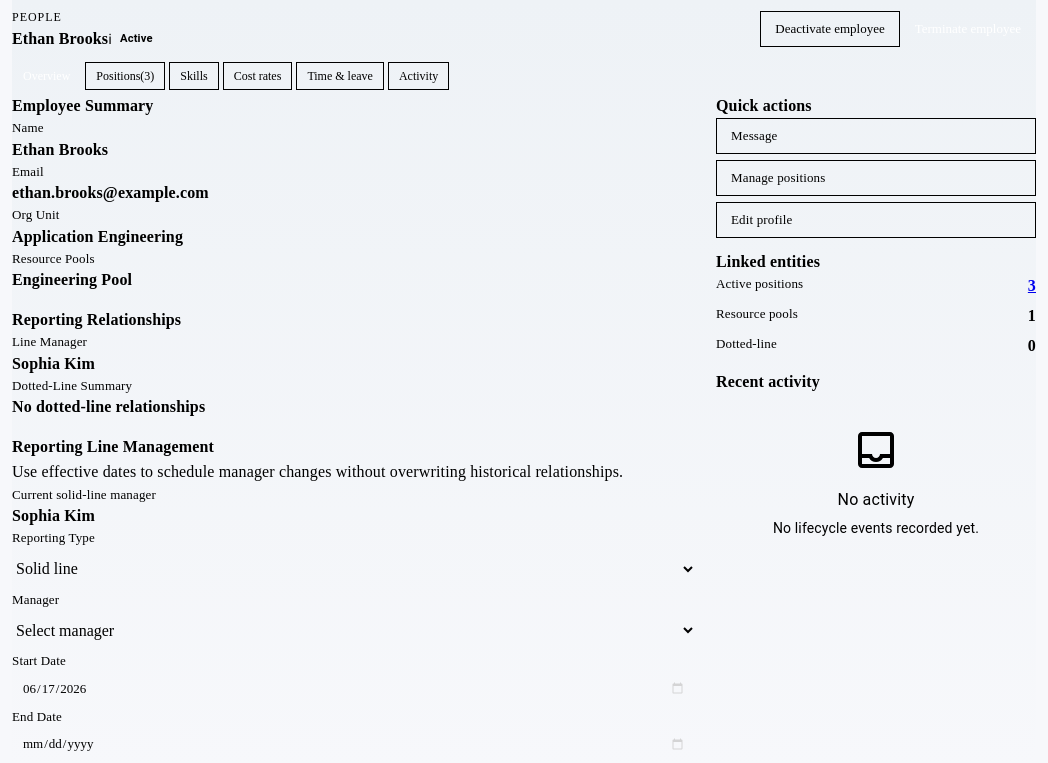
Test: EmployeeDetailsPage — DS canvas 6-tab grammar › switches tabs to swap body content
The width and height of the screenshot is (1048, 763).
Expected: the heading "Employee Summary" is shown, [12,94,154,118]
Positions tab shows the staffing-desk EmptyState forward action.
Click the tab with test id "tab-positions": [125, 76] box [85,62,165,90]
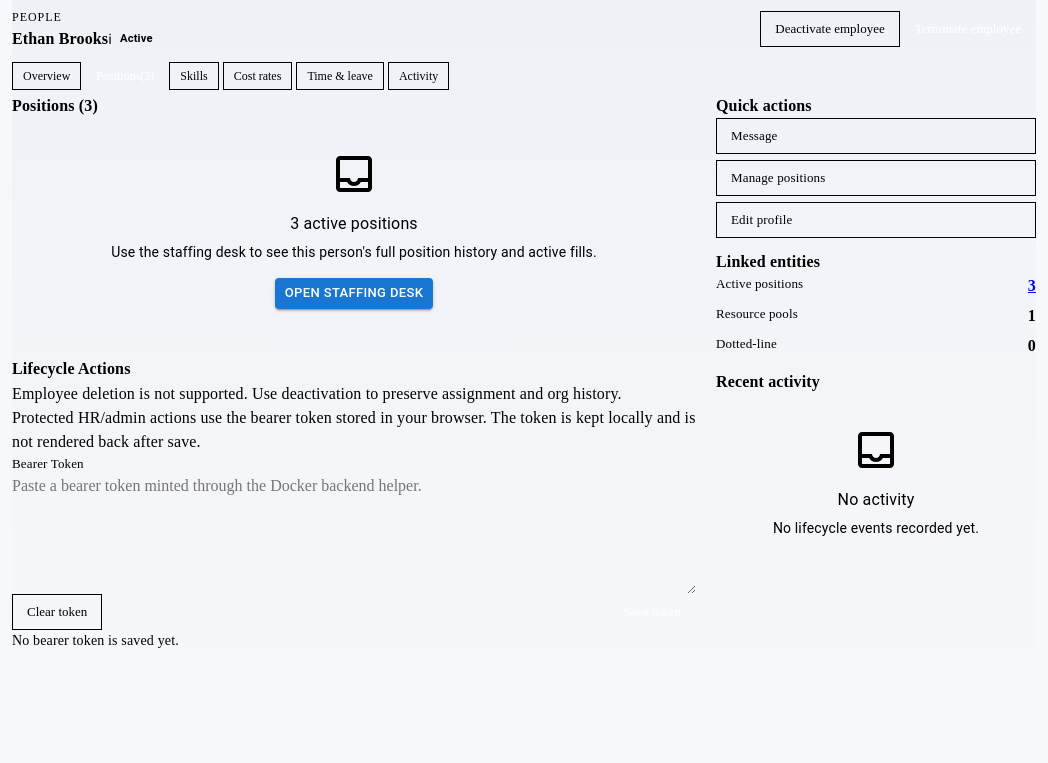
Expected: the heading "3 active positions" is shown, [290,210,418,238]
Expected: the heading "Employee Summary" is gone
Cost rates tab swaps to the rate-cards admin forward action.
Click the tab with test id "tab-cost": [258, 76] box [223,62,292,90]
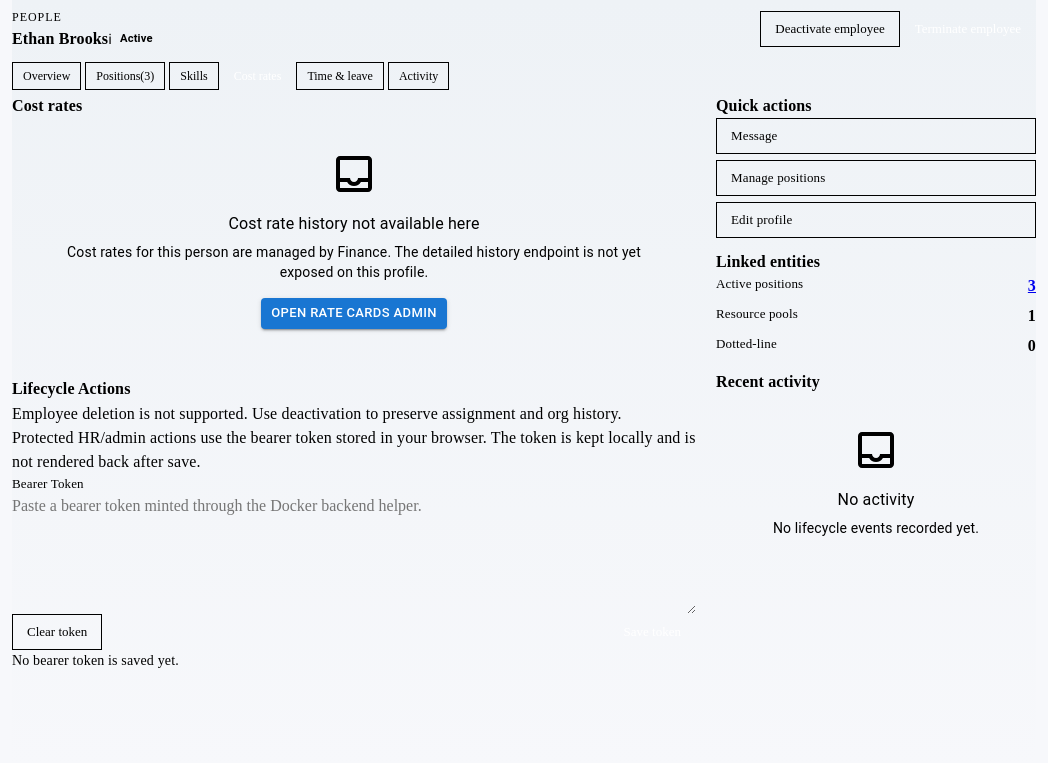
Expected: the heading "Cost rate history not available here" is shown, [228,210,480,238]
Click the tab with test id "tab-time": [340, 76] box [296,62,384,90]
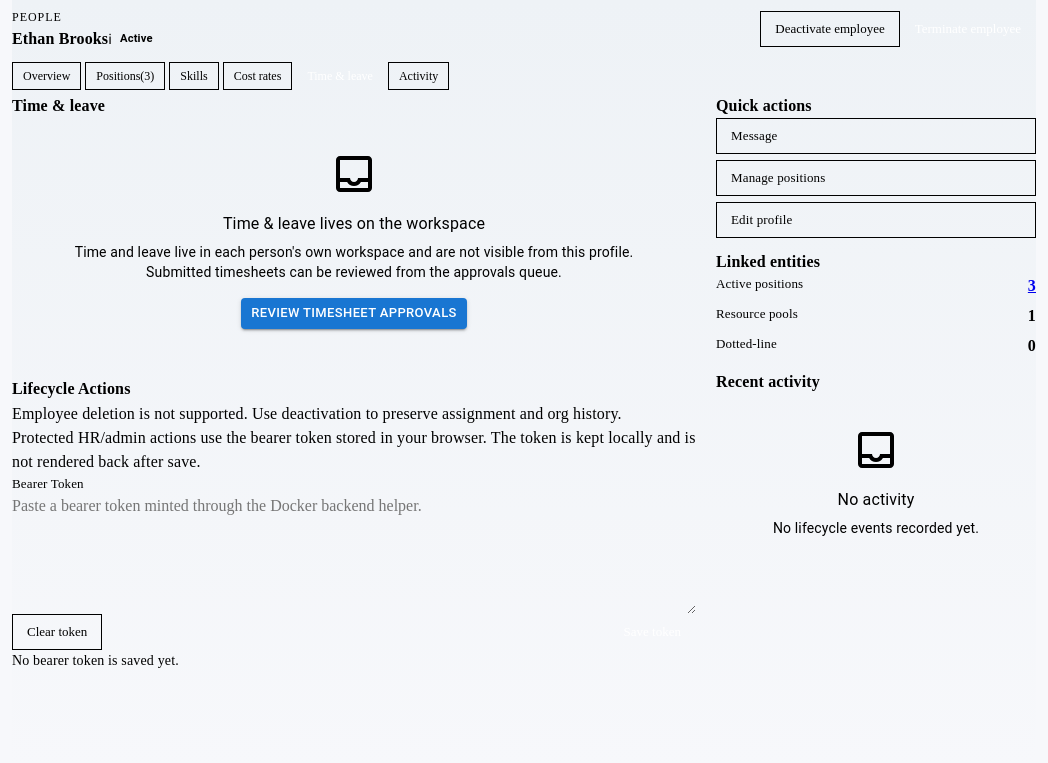
Expected: the heading "Time & leave lives on the workspace" is shown, [223,210,485,238]
Activity tab triggers the audit-feed fetch.
Click the tab with test id "tab-activity": [419, 76] box [388,62,449,90]
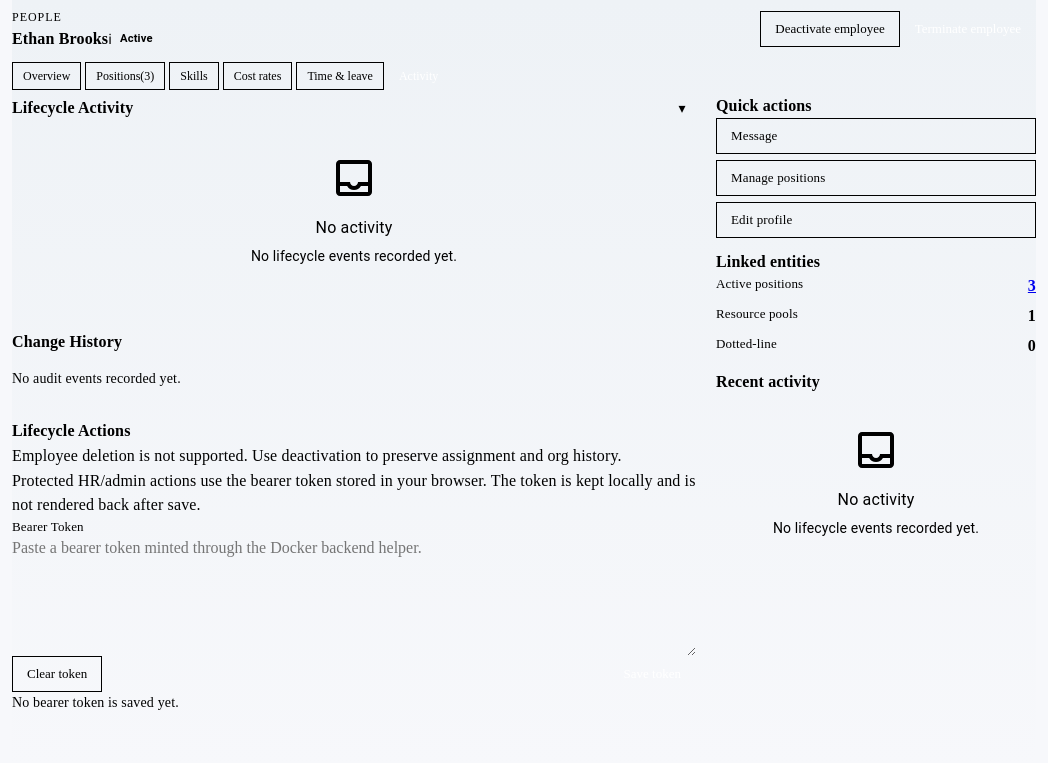
Expected: the heading "Change History" is shown, [12,330,122,354]
